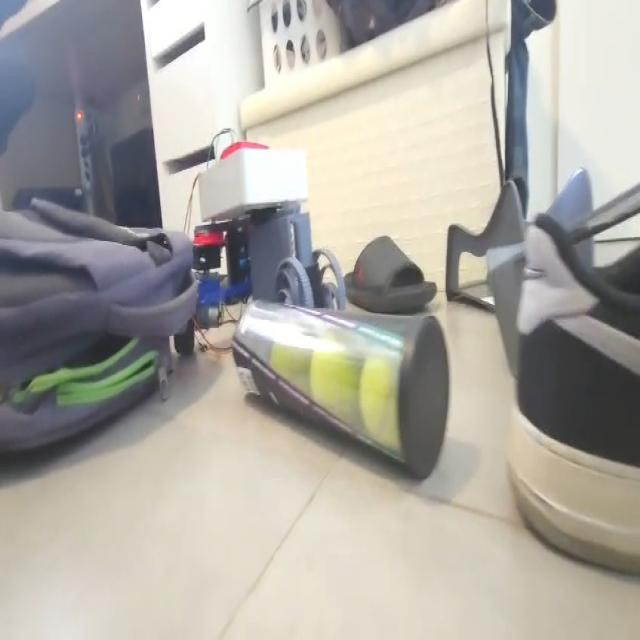Robot: (174, 137, 346, 356)
